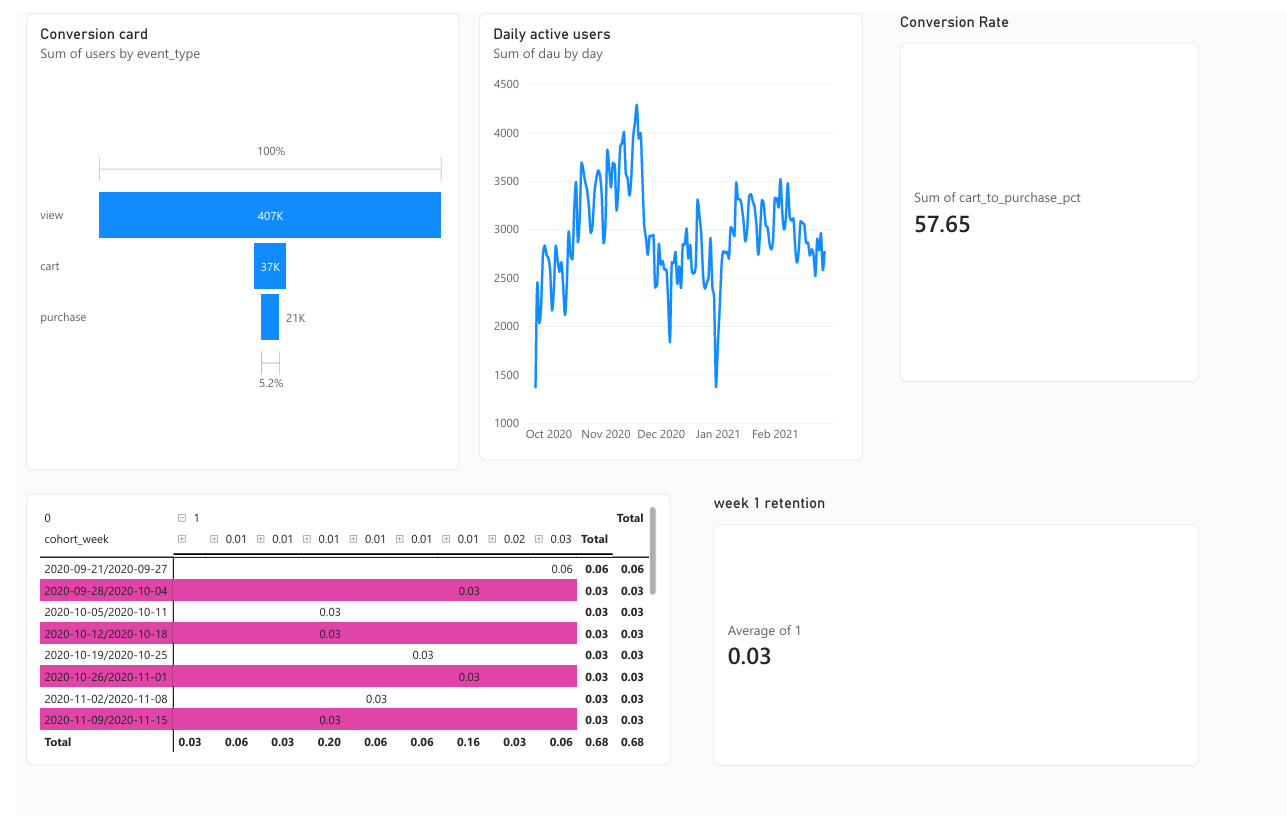

The dashboard page shown, as its layout file describes it:
{"tool":"powerbi","page":{"name":"Page 1","canvas":[1920,1080],"ordinal":0},"visuals":[{"type":"funnel","title":"Conversion card ","fields":{"Category":["funnel_stage_counts.event_type"],"Y":["Sum(funnel_stage_counts.users)"]},"box":[10,0,523.3,551.7],"z":0},{"type":"lineChart","title":"Daily active users","fields":{"Category":["dau_by_day.day"],"Y":["Sum(dau_by_day.dau)"]},"box":[556.7,0,463.3,540],"z":1000},{"type":"pivotTable","fields":{"Columns":["retention_matrix.0","retention_matrix.2","retention_matrix.3","retention_matrix.4","retention_matrix.5","retention_matrix.6","retention_matrix.7","retention_matrix.8","retention_matrix.9","retention_matrix.10","retention_matrix.11","retention_matrix.12"],"Rows":["retention_matrix.cohort_week"],"Values":["Sum(retention_matrix.1)"]},"box":[10,580,778.3,328.3],"z":2000},{"type":"cardVisual","title":"week 1 retention","fields":{"Data":["Avg(retention_matrix.1)"]},"box":[840,580,586.7,328.3],"z":3000},{"type":"cardVisual","title":"Conversion Rate","fields":{"Data":["Sum(conversion_rates.cart_to_purchase_pct)"]},"box":[1065,0,361.7,445],"z":4000},{"type":"textbox","box":[10,918,778,162],"z":4001},{"type":"textbox","box":[840,918,587,162],"z":4002}]}

Visuals, with their boxes on the page's 1920x1080 design canvas (x1, y1, x2, y2). These are canvas units, not pixel positions in the 1287x816 screenshot, which may show the page scaled, cropped or inside an application window:
"Conversion card " funnel: <bbox>10, 0, 533, 552</bbox>
"Daily active users" lineChart: <bbox>557, 0, 1020, 540</bbox>
pivotTable - retention_matrix.0 x retention_matrix.2: <bbox>10, 580, 788, 908</bbox>
"week 1 retention" cardVisual: <bbox>840, 580, 1427, 908</bbox>
"Conversion Rate" cardVisual: <bbox>1065, 0, 1427, 445</bbox>
textbox: <bbox>10, 918, 788, 1080</bbox>
textbox: <bbox>840, 918, 1427, 1080</bbox>
